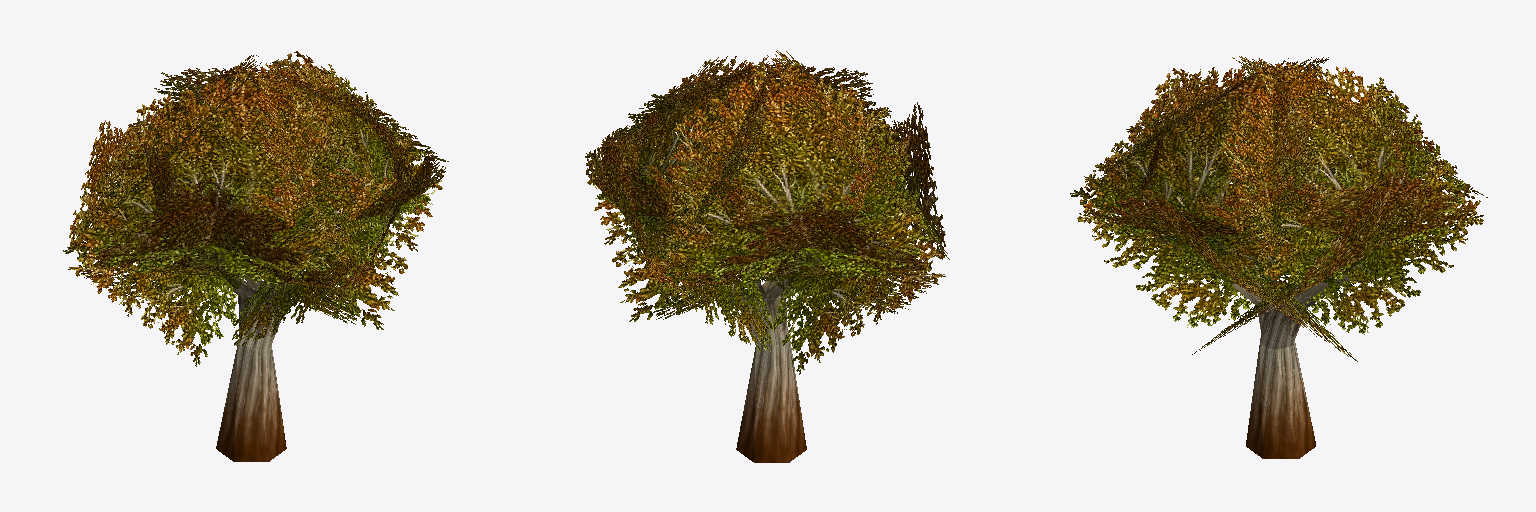
3 views of the same model, side by side, from view 1: azimuth 30°, elevation 25°; view 2: azimuth 150°, elevation 25°; view 3: azimuth 270°, elevation 25° (orthographic).
Parts seen in each view (by area): view 1: object 1; view 2: object 1; view 3: object 1.
Part boxes in pixels (left/top/right/bottom): object 1: left=63, top=51, right=448, bottom=461; object 1: left=585, top=50, right=949, bottom=462; object 1: left=1070, top=56, right=1487, bottom=458.
Bounding box in the file's own units: 65.31 × 60.62 × 63.21.
Materials: 2 (2 with a texture image).